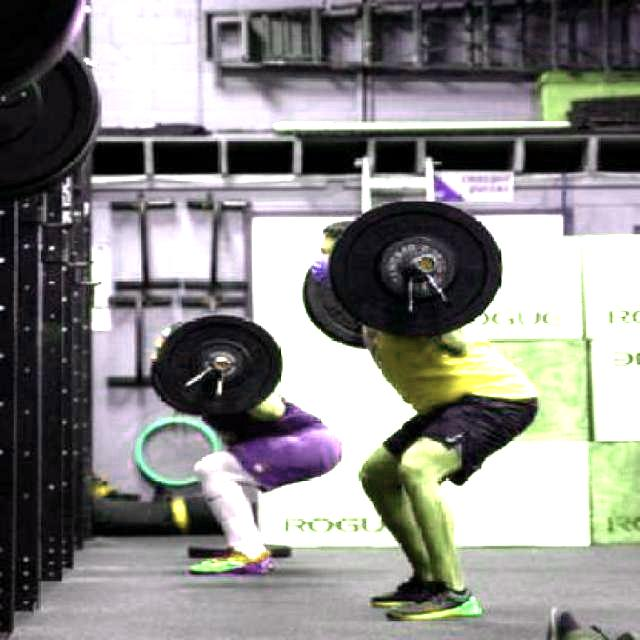barbell: (329, 197, 507, 345), (153, 312, 286, 420)
